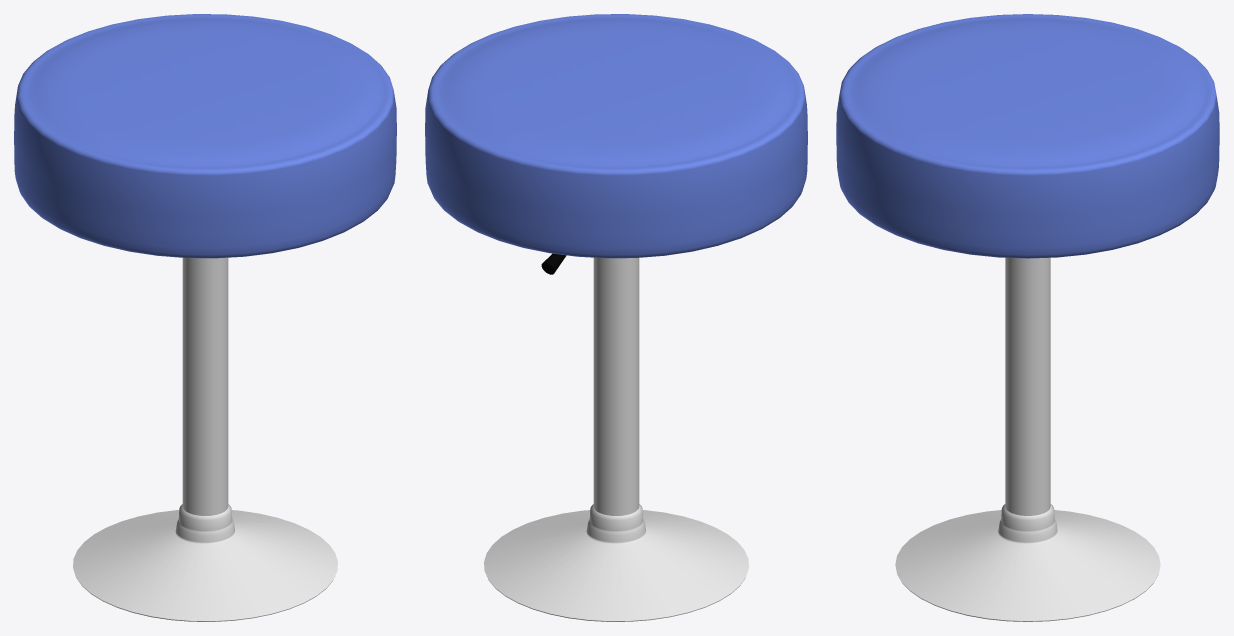
Rendered from Stool.fbx.
3 views of the same model, side by side, from view 1: azimuth 30°, elevation 25°; view 2: azimuth 150°, elevation 25°; view 3: azimuth 270°, elevation 25° (orthographic).
Parts seen in each view (by area): view 1: Stool1; view 2: Stool1; view 3: Stool1.
Boxes of the visible parts, x1=… form: Stool1: x1=14, y1=14, x2=396, y2=621; Stool1: x1=425, y1=14, x2=807, y2=621; Stool1: x1=836, y1=14, x2=1219, y2=621.
Bounding box in the file's own units: 1.88 × 1.88 × 2.6.
